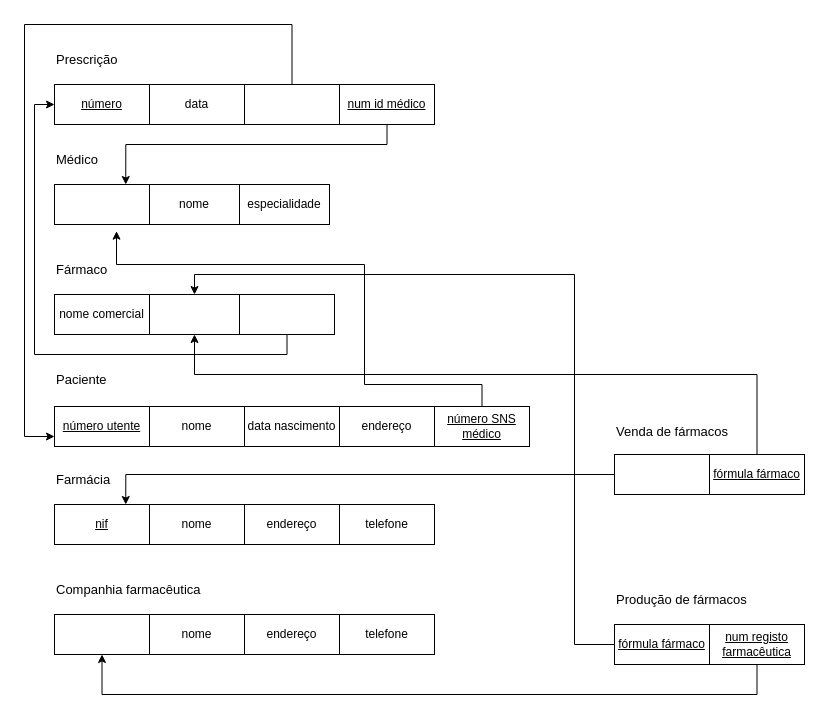
The diagram is 822 pixels wide and 720 high, and some of its shapes have lost their labels. Here are the shapes that lost their labels. From the top down, the centre of each, then its label:
At point 292,104: "número utente paciente".
At point 102,204: "número SNS".
At point 194,314: "fórmula".
At point 286,314: "número prescrição".
At point 662,474: "nif farmácia".
At point 102,634: "número registo nacional".
